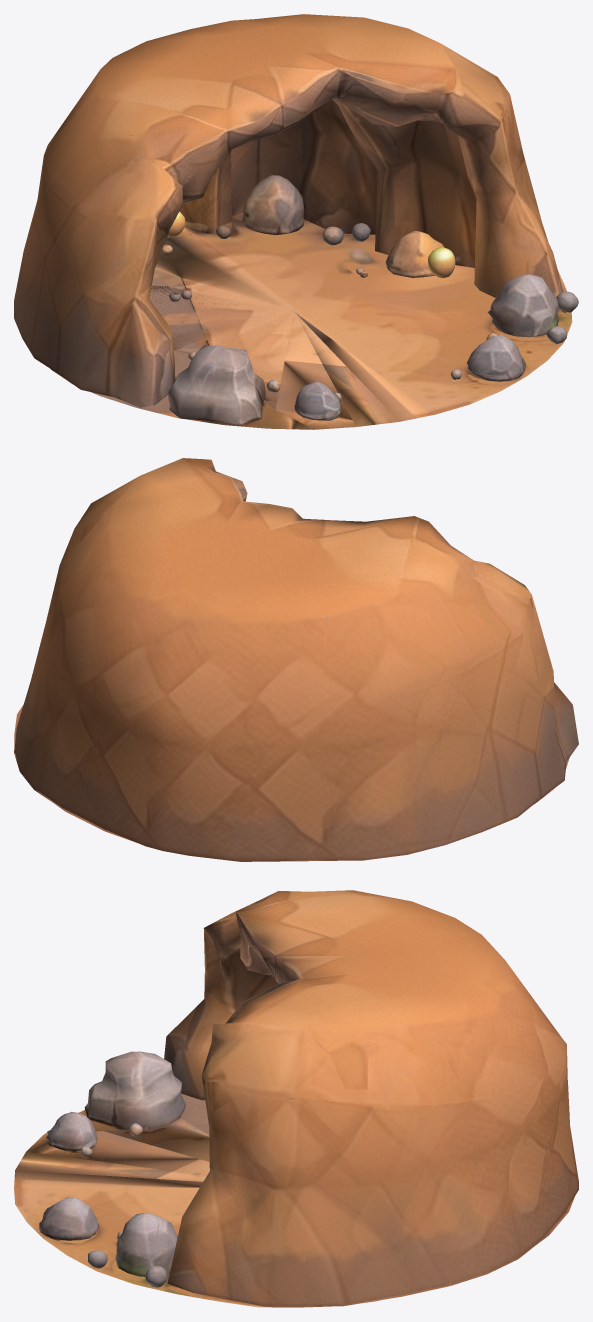
The model's file is r5c3_low_wide_cave.glb.
The picture shows the model from 3 angles, top to bottom: view 1: azimuth 30°, elevation 25°; view 2: azimuth 150°, elevation 25°; view 3: azimuth 270°, elevation 25°; orthographic projection.
Size of the model in its own units: 1 by 0.459 by 1.
1 material, 1 textured.
